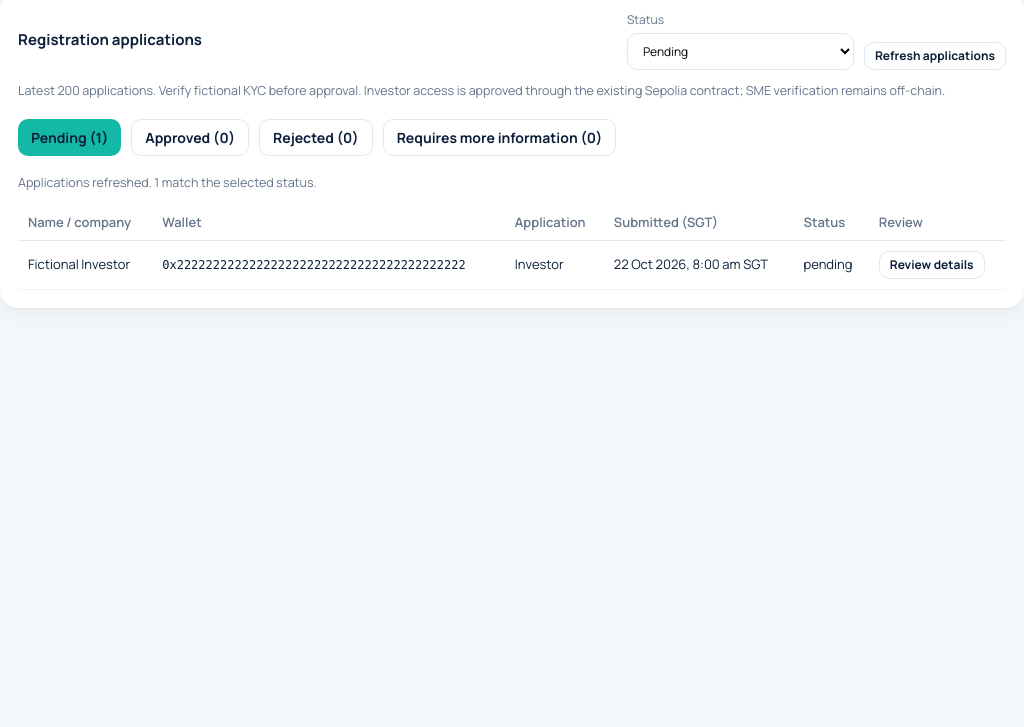
Test case: registration forms and review recovery › retains the approval hash and retries finalization without sending another transaction
Step 1. Click the button "Review details" → click(932, 265), box [879,251,985,279]
(page scrolled)
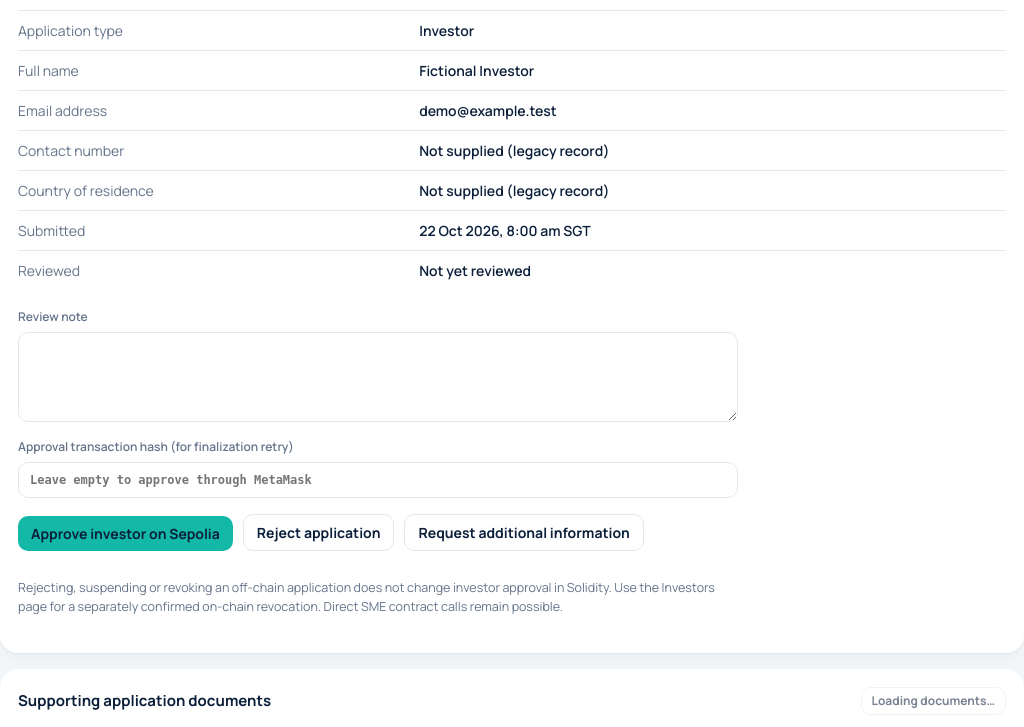
Step 2. Type "Reviewed fictional KYC." into the text box labelled "Review note" → (378, 377), box [18,332,738,422]
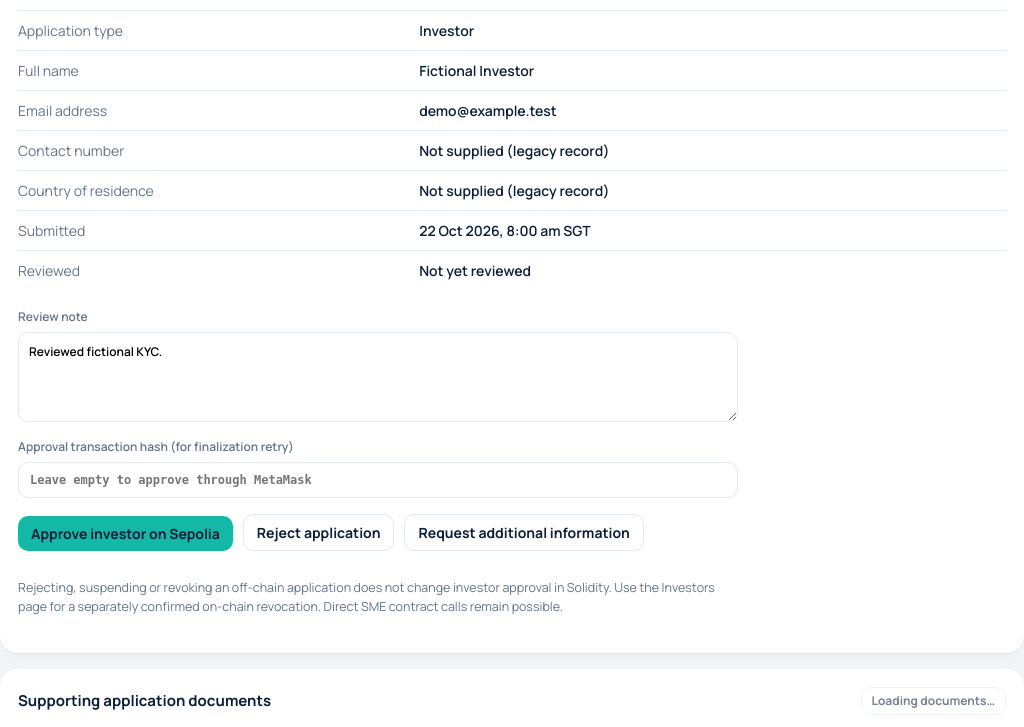
Step 3. Click the button "Approve investor on Sepolia" → click(125, 534), box [18,516,233,551]
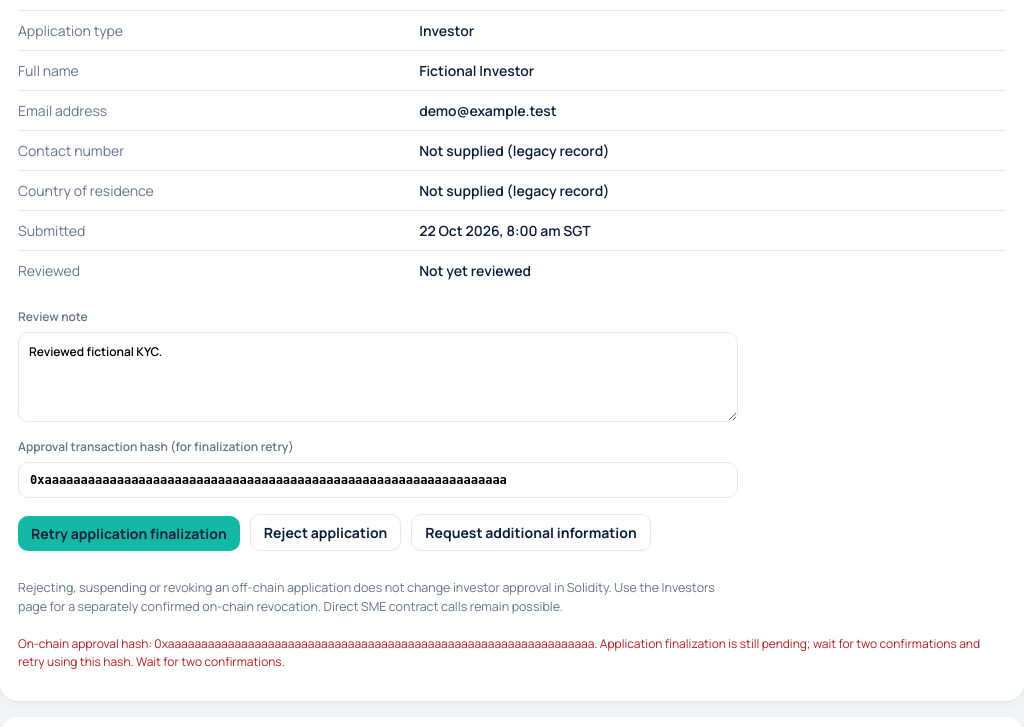
Check: the text "Application finalization is still pending" is shown, box [18,635,980,670]
Step 4. Click the button "Retry application finalization" → click(129, 534), box [18,516,240,551]
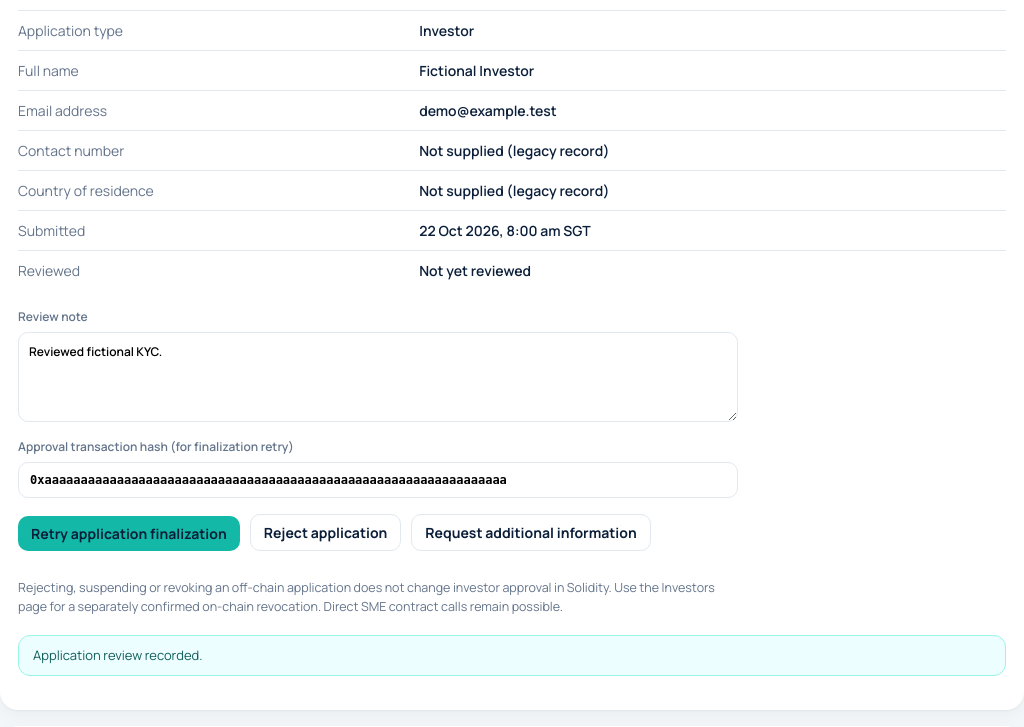
Check: the text "Application review recorded." is shown, box [18,635,1006,676]
